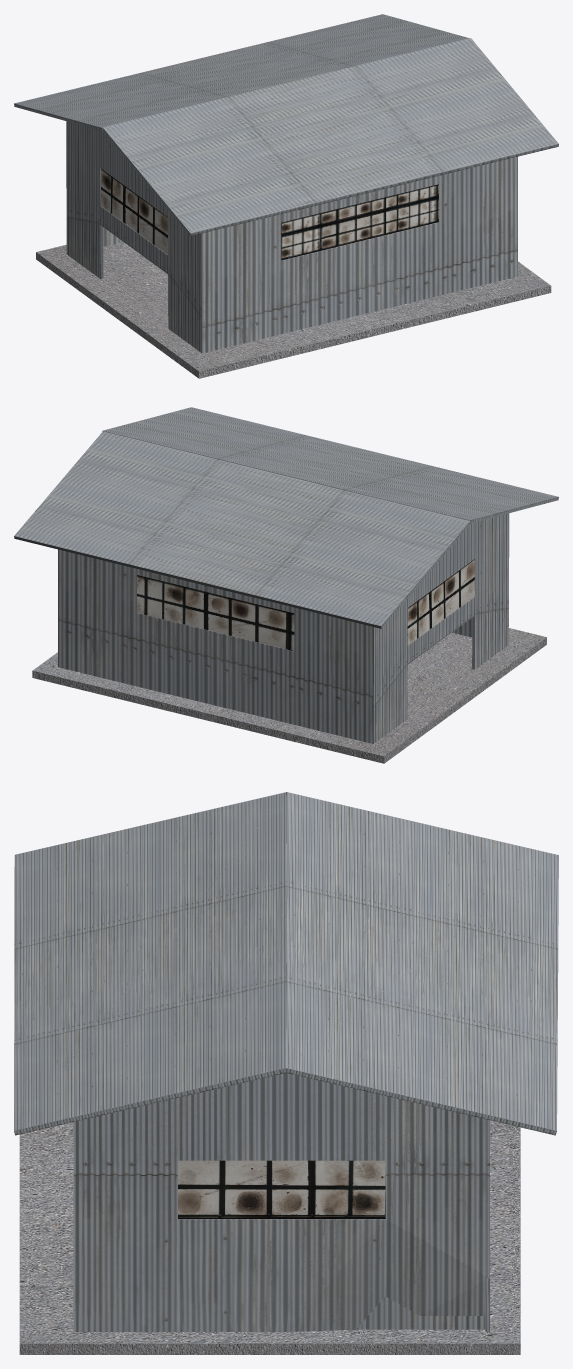
The model's file is Almacen1.fbx.
3 renders of one model, top to bottom at view 1: azimuth 30°, elevation 25°; view 2: azimuth 150°, elevation 25°; view 3: azimuth 270°, elevation 25°, orthographic. The views are drawn at different scales.
Parts seen in each view (by area): view 1: Cube_004, Cube_001, Cube_008, Cube_002, Cube_006, Cube_007; view 2: Cube_004, Cube, Cube_008, Cube_002, Cube_005, Cube_007; view 3: Cube_004, Cube_003, Cube_008, Cube_007.
Part boxes in pixels (box(x1,y1,x2,y2)): Cube_004: box(14, 14, 558, 236); Cube_001: box(202, 156, 517, 353); Cube_008: box(36, 242, 551, 378); Cube_002: box(66, 121, 202, 352); Cube_006: box(281, 184, 438, 260); Cube_007: box(100, 168, 167, 254); Cube_004: box(14, 407, 558, 628); Cube: box(58, 549, 373, 743); Cube_008: box(32, 628, 546, 763); Cube_002: box(373, 513, 509, 743); Cube_005: box(137, 575, 294, 650); Cube_007: box(407, 559, 474, 645); Cube_004: box(14, 792, 558, 1135); Cube_003: box(74, 1073, 489, 1331); Cube_008: box(19, 1120, 520, 1354); Cube_007: box(178, 1160, 385, 1218).
Bounding box in the file's own units: 2294 × 1130 × 1911.
